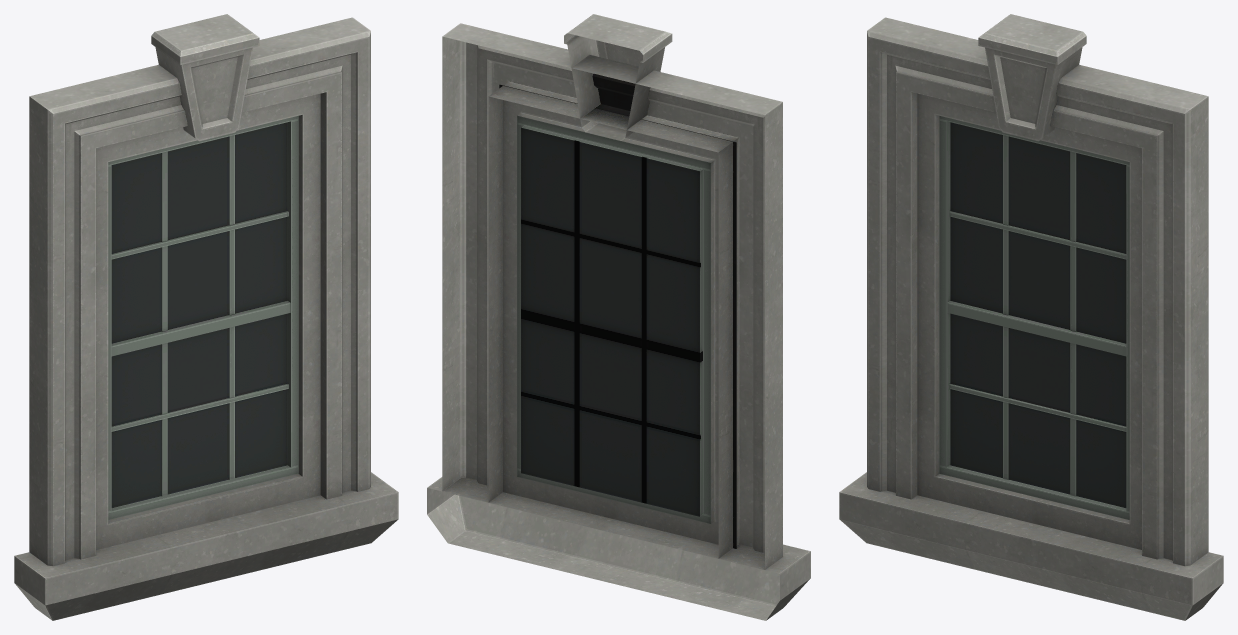
Rendered from window001.glb.
3 views of the same model, side by side, from view 1: azimuth 30°, elevation 25°; view 2: azimuth 150°, elevation 25°; view 3: azimuth 330°, elevation 25° (orthographic).
Visible parts, largest first — view 1: window001; view 2: window001; view 3: window001.
Boxes of the visible parts, x1,y1,x2,y2 form: window001: [14, 14, 398, 620]; window001: [427, 14, 810, 620]; window001: [839, 14, 1223, 620].
Size of the model in its own units: 1.94 by 2.85 by 0.2949.
1 material, 1 textured.
